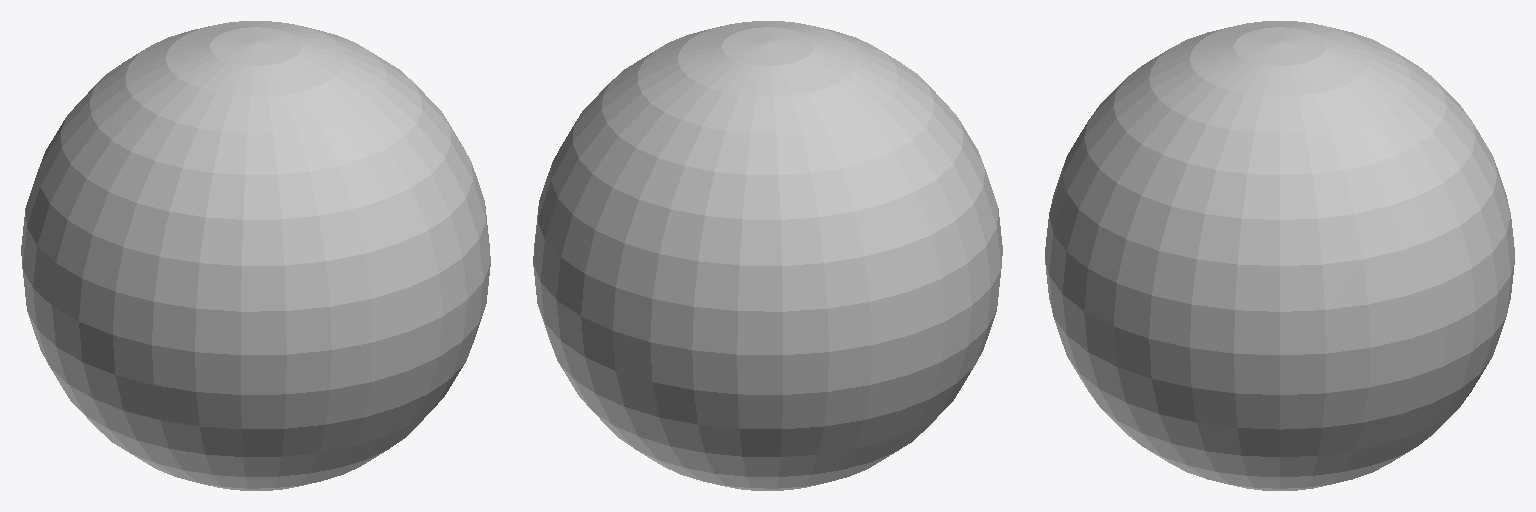
The model's file is ball.obj.
3 views of the same model, side by side, from view 1: azimuth 30°, elevation 25°; view 2: azimuth 150°, elevation 25°; view 3: azimuth 270°, elevation 25° (orthographic).
Visible parts, largest first — view 1: Sphere; view 2: Sphere; view 3: Sphere.
Part boxes in pixels (x1,y1,x2,y2): Sphere: (21,21,490,490); Sphere: (533,21,1002,490); Sphere: (1045,21,1514,490).
Bounding box in the file's own units: 0.1525 × 0.1525 × 0.1525.